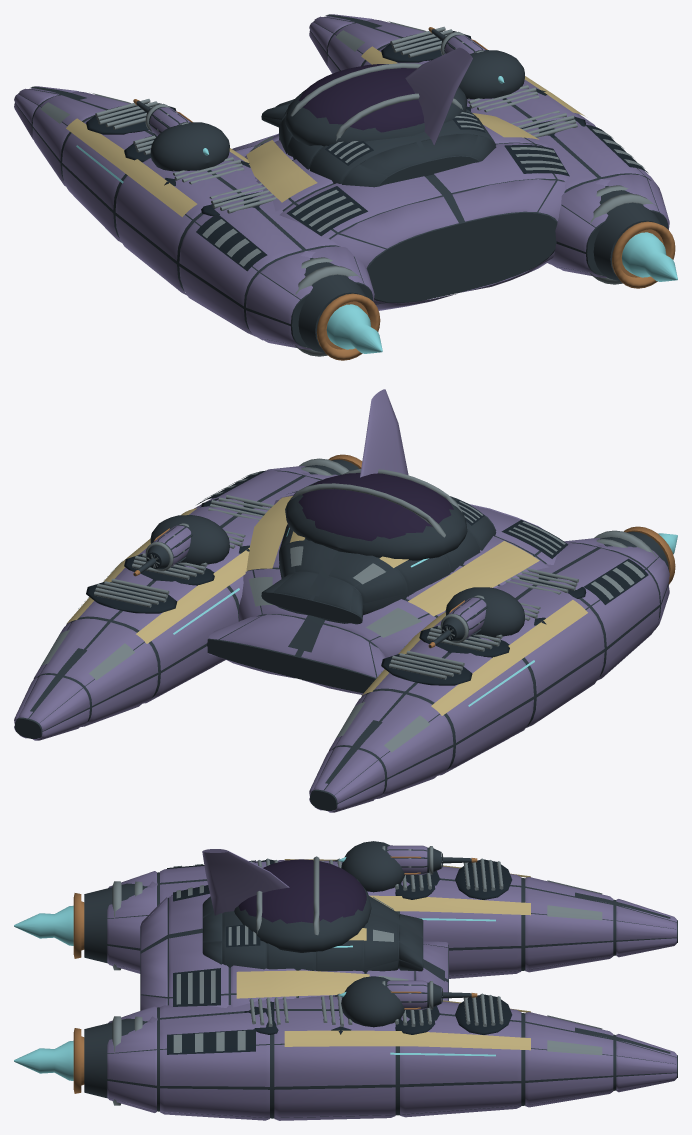
Rendered from bastion.glb.
3 renders of one model, top to bottom at view 1: azimuth 30°, elevation 25°; view 2: azimuth 150°, elevation 25°; view 3: azimuth 270°, elevation 25°, orthographic. The views are drawn at different scales.
Visible parts, largest first — view 1: bastion; view 2: bastion; view 3: bastion.
Part boxes in pixels (x1=…): bastion: x1=14, y1=14, x2=677, y2=360; bastion: x1=14, y1=389, x2=677, y2=812; bastion: x1=14, y1=841, x2=677, y2=1120.
Size of the model in its own units: 6.28 by 3.14 by 8.99.
